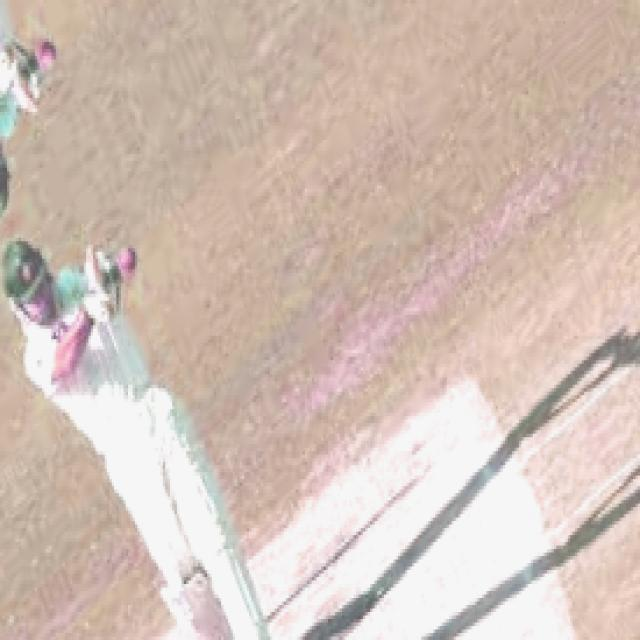toe: (100, 261, 127, 298)
